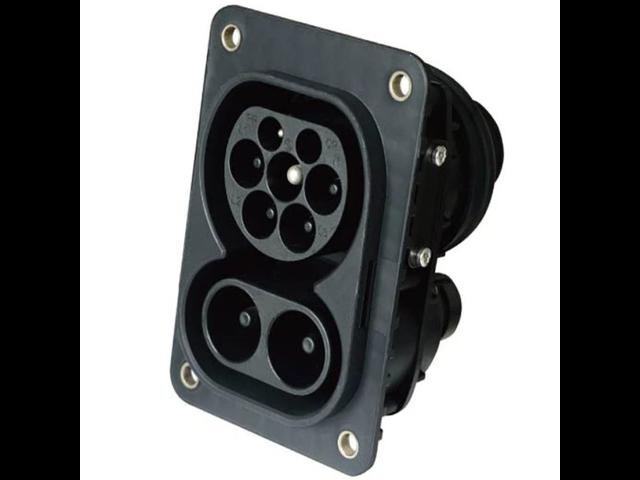inlet: (225, 106, 347, 262)
inlet-above-left: (257, 116, 284, 151)
inlet-above-right: (296, 128, 322, 165)
inlet-below-left: (241, 190, 278, 240)
inlet-below-right: (279, 203, 316, 254)
inlet-circle: (266, 150, 304, 203)
inlet-circle-left: (230, 138, 266, 189)
inlet-circle-right: (304, 163, 342, 215)
inlet-minus: (267, 310, 325, 391)
inlet-plus: (206, 285, 262, 363)
